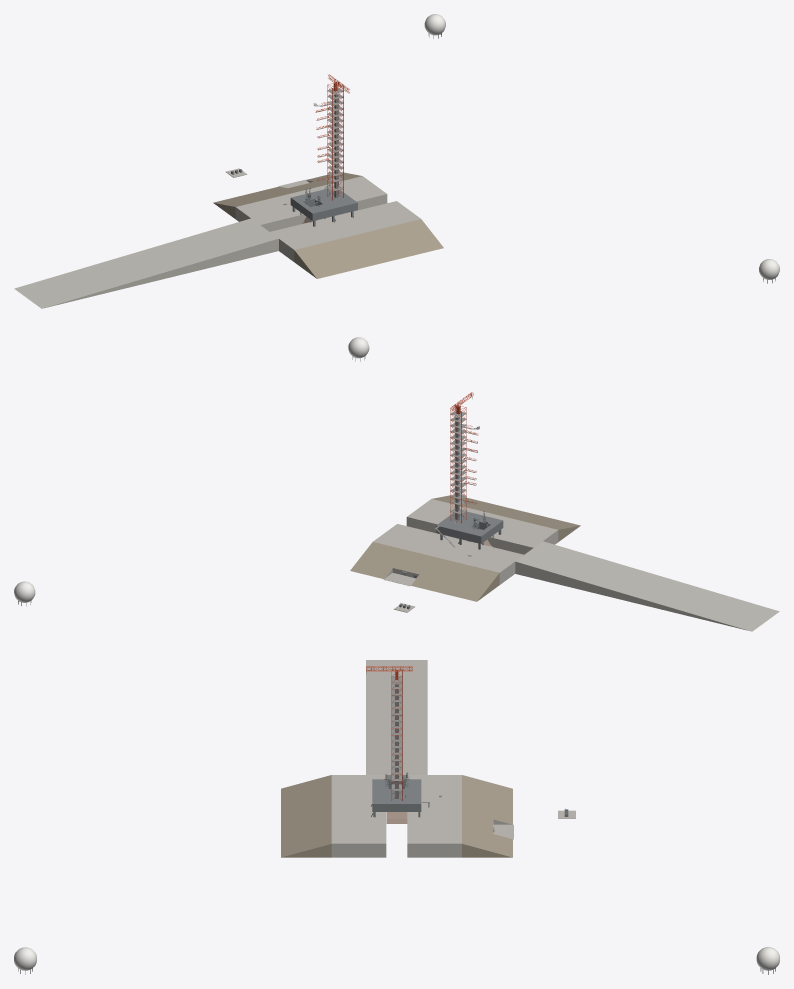
Rendered from pad-a-1971-07.lod2.glb.
3 renders of one model, top to bottom at view 1: azimuth 30°, elevation 25°; view 2: azimuth 150°, elevation 25°; view 3: azimuth 270°, elevation 25°, orthographic. The views are drawn at different scales.
Visible parts, largest first — view 1: Hardstand_Concrete, Hardstand_Earth, Launcher_Base_Steel, Umbilical_Tower_Deck, Umbilical_Tower_Red, Storage_Spheres_White; view 2: Hardstand_Concrete, Hardstand_Earth, Launcher_Base_Steel, Umbilical_Tower_Deck, Umbilical_Tower_Red, Storage_Spheres_White; view 3: Hardstand_Concrete, Hardstand_Earth, Launcher_Base_Steel, Umbilical_Tower_Deck, Storage_Spheres_White, Umbilical_Tower_Red.
Part boxes in pixels (bbox=[...]): Hardstand_Concrete: bbox=[14, 176, 420, 308]; Hardstand_Earth: bbox=[213, 172, 443, 278]; Launcher_Base_Steel: bbox=[290, 189, 357, 220]; Umbilical_Tower_Deck: bbox=[327, 87, 343, 191]; Umbilical_Tower_Red: bbox=[327, 82, 343, 200]; Storage_Spheres_White: bbox=[424, 14, 779, 279]; Hardstand_Concrete: bbox=[373, 499, 779, 631]; Hardstand_Earth: bbox=[350, 495, 580, 601]; Launcher_Base_Steel: bbox=[436, 511, 503, 543]; Umbilical_Tower_Deck: bbox=[450, 410, 466, 514]; Umbilical_Tower_Red: bbox=[450, 405, 466, 523]; Storage_Spheres_White: bbox=[14, 337, 369, 602]; Hardstand_Concrete: bbox=[331, 660, 512, 857]; Hardstand_Earth: bbox=[281, 775, 512, 857]; Launcher_Base_Steel: bbox=[372, 779, 421, 811]; Umbilical_Tower_Deck: bbox=[391, 676, 402, 790]; Storage_Spheres_White: bbox=[14, 947, 779, 970]; Umbilical_Tower_Red: bbox=[391, 669, 402, 800].
Bounding box in the file's own units: 630 × 149 × 644.
